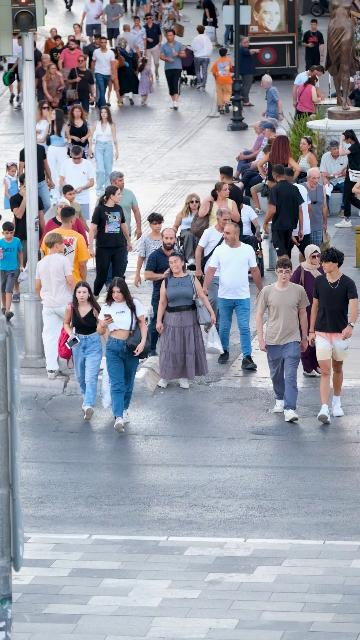person: (201, 222, 264, 372), (254, 258, 311, 422), (307, 247, 359, 424), (155, 251, 217, 391), (96, 276, 150, 434), (35, 232, 78, 380), (139, 227, 185, 360), (62, 281, 105, 421), (288, 244, 328, 378), (87, 185, 132, 303), (262, 164, 305, 264), (134, 213, 172, 325), (39, 206, 91, 287), (194, 209, 235, 292), (238, 144, 273, 239), (232, 121, 278, 190), (18, 138, 55, 220), (59, 145, 96, 223), (104, 171, 143, 243), (4, 39, 43, 111), (88, 107, 119, 197), (283, 167, 312, 263), (296, 167, 328, 250), (335, 129, 360, 229), (9, 173, 46, 240), (0, 222, 25, 321), (257, 135, 302, 188), (42, 198, 90, 247), (159, 28, 187, 110), (320, 139, 350, 215), (172, 193, 203, 265), (65, 55, 96, 123), (199, 181, 241, 231), (235, 121, 266, 182), (91, 37, 117, 109), (214, 165, 244, 222), (114, 37, 139, 105), (239, 37, 262, 106), (211, 49, 235, 114), (191, 24, 214, 91), (240, 203, 264, 266), (292, 65, 325, 109), (65, 104, 91, 159), (294, 76, 324, 123), (60, 184, 89, 231), (260, 74, 284, 129), (143, 12, 162, 81), (292, 136, 318, 185), (57, 38, 83, 85), (302, 19, 325, 72), (80, 0, 105, 48), (41, 63, 66, 110), (34, 100, 53, 158), (102, 0, 124, 50), (134, 56, 155, 106), (129, 15, 147, 67), (34, 54, 53, 101), (160, 0, 180, 42), (3, 162, 20, 210), (82, 34, 102, 72), (110, 51, 123, 107), (118, 24, 140, 57), (50, 35, 69, 72), (44, 28, 59, 62), (12, 30, 24, 69), (67, 23, 85, 49), (33, 32, 46, 64), (146, 0, 163, 24), (268, 117, 288, 137), (132, 0, 147, 25), (122, 0, 133, 13), (69, 35, 75, 43)
